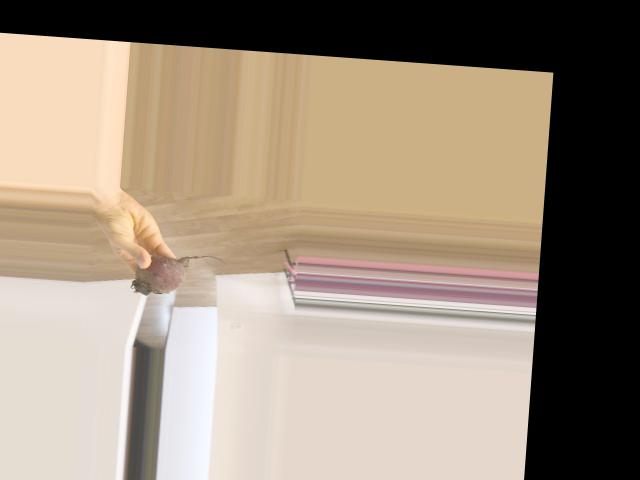beet: (131, 250, 227, 300)
